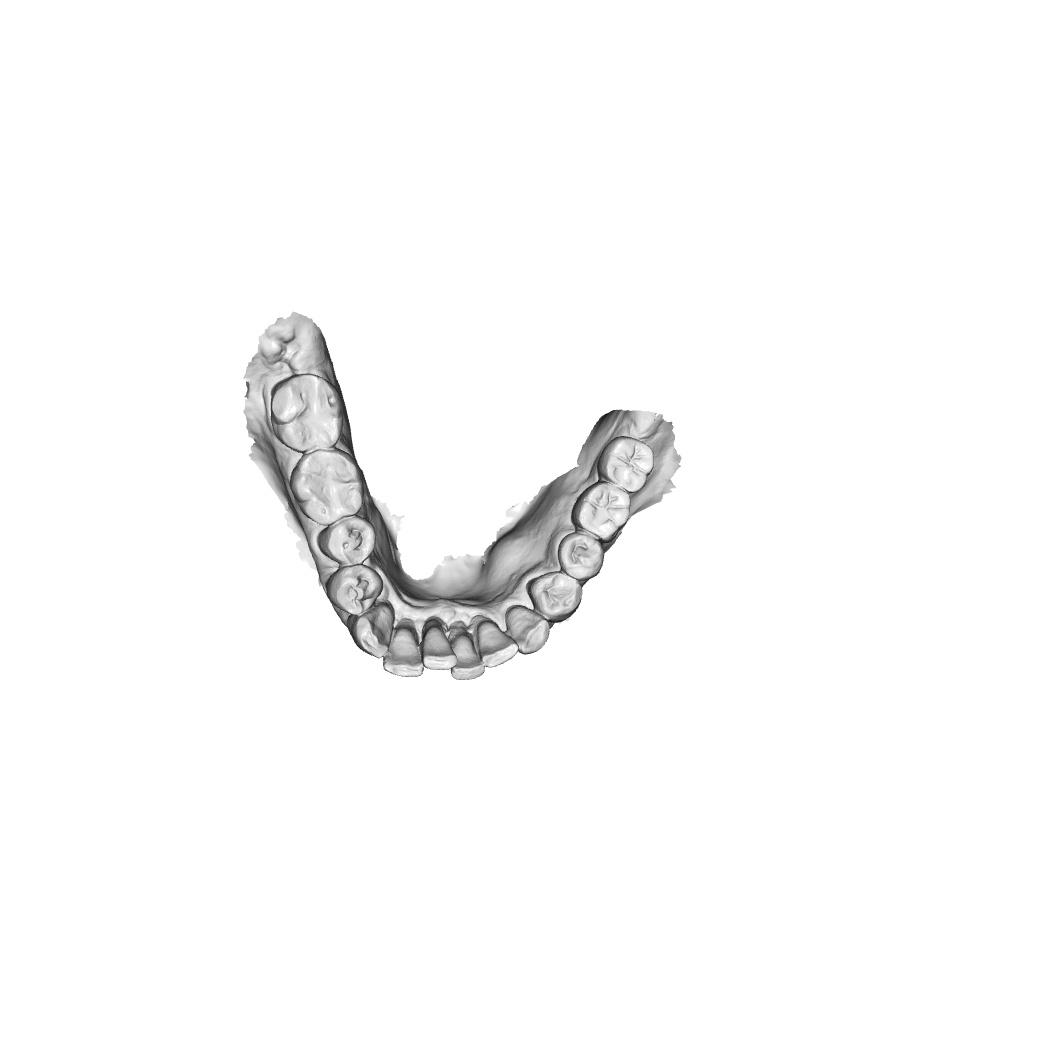canine: (347, 602, 395, 661), (503, 604, 550, 655)
incisor: (475, 618, 521, 670), (383, 625, 425, 679), (448, 632, 486, 682), (420, 624, 458, 672)
molar: (269, 373, 347, 454), (288, 447, 366, 527), (570, 481, 632, 544), (596, 435, 655, 494)
premolar: (525, 570, 585, 625), (317, 512, 377, 565), (326, 564, 384, 616), (556, 528, 605, 581)
